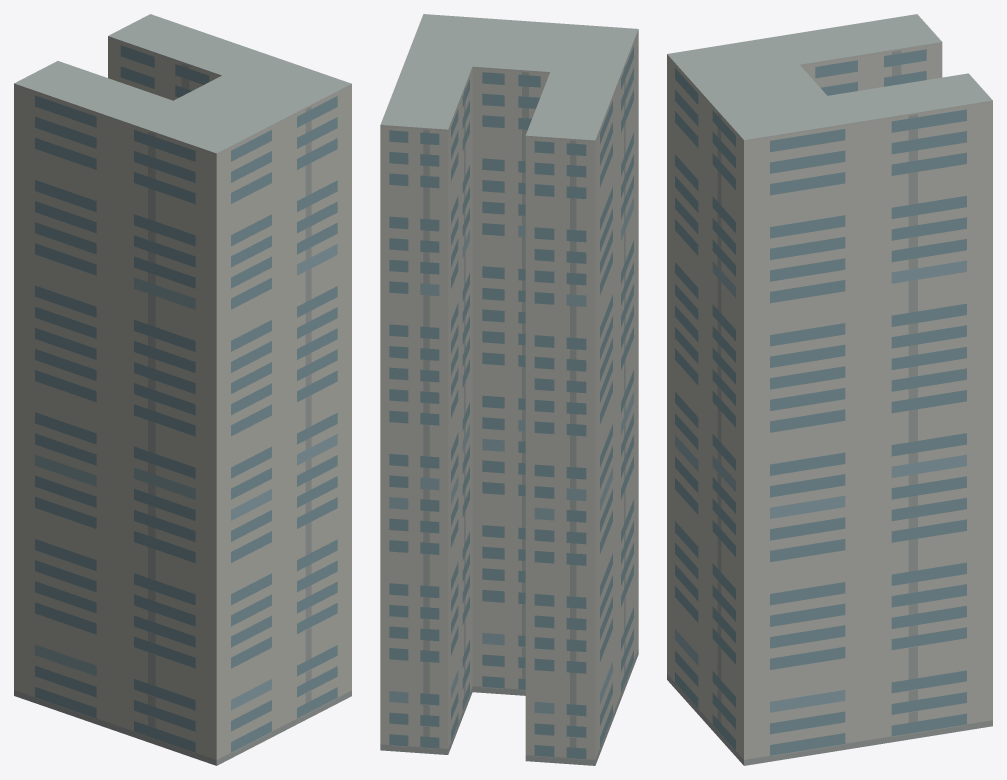
The model's file is residential-b688edfd-55bc-4cf7-9dd0-ffc7b5da7f24.glb.
3 renders of one model, left to right at view 1: azimuth 30°, elevation 25°; view 2: azimuth 150°, elevation 25°; view 3: azimuth 270°, elevation 25°, orthographic. The views are drawn at different scales.
Visible parts, largest first — view 1: residential-b688edfd-55bc-4cf7-9dd0-ffc7b5da7f24.tmp; view 2: residential-b688edfd-55bc-4cf7-9dd0-ffc7b5da7f24.tmp; view 3: residential-b688edfd-55bc-4cf7-9dd0-ffc7b5da7f24.tmp.
Part boxes in pixels (x1=…): residential-b688edfd-55bc-4cf7-9dd0-ffc7b5da7f24.tmp: x1=14, y1=14, x2=351, y2=765; residential-b688edfd-55bc-4cf7-9dd0-ffc7b5da7f24.tmp: x1=380, y1=14, x2=638, y2=765; residential-b688edfd-55bc-4cf7-9dd0-ffc7b5da7f24.tmp: x1=667, y1=14, x2=992, y2=765.
Size of the model in its own units: 35.48 by 82 by 38.72.
